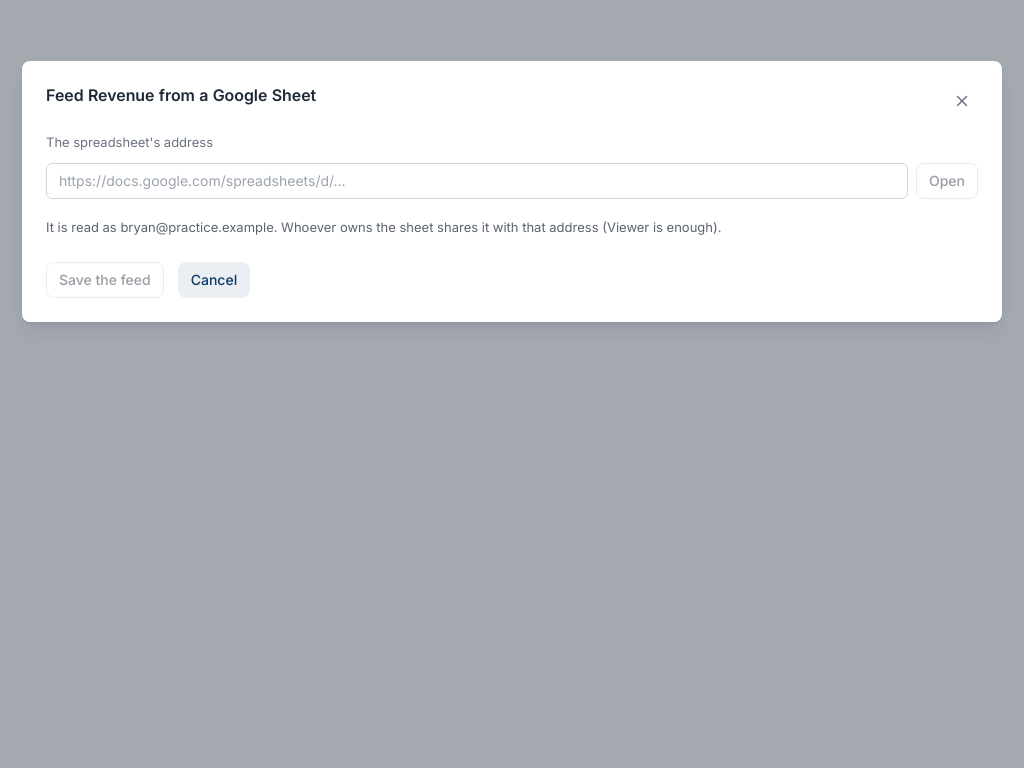
Test: the Google Sheet feed (M5 part 3) › cell mode: a click on the cell, and the preview says when it is kept
Type "1AbC" into the field labelled "The spreadsheet's address".
click(477, 181); type("1AbC")  # box x1=46 y1=163 x2=908 y2=199
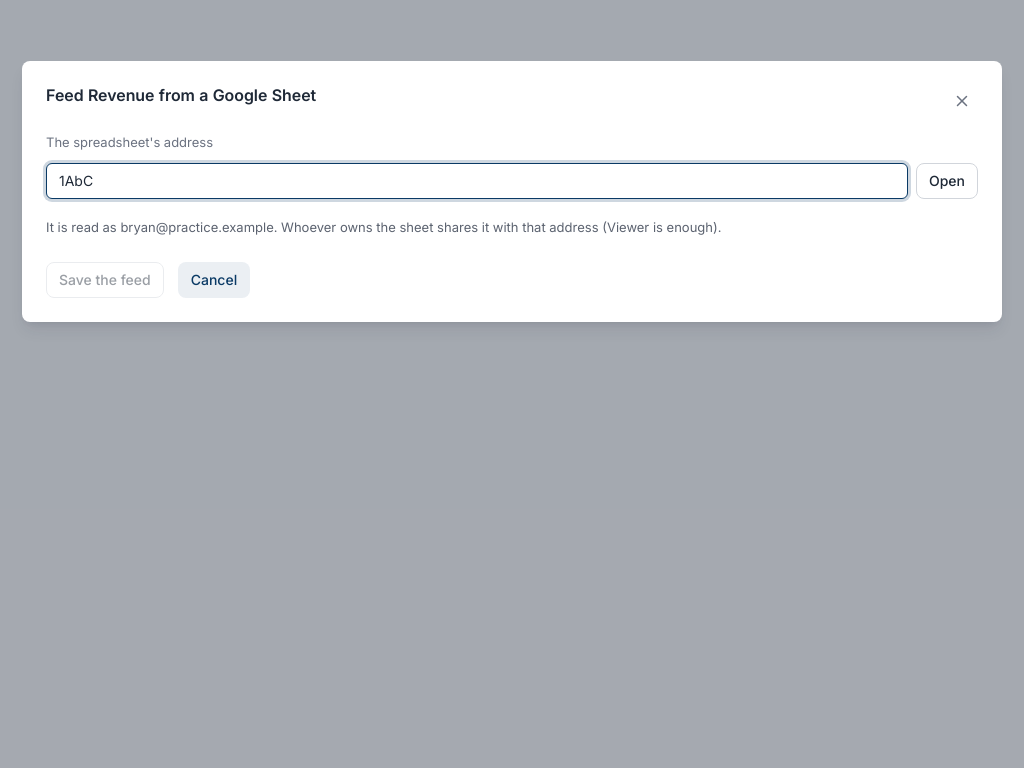
Click the button "Open".
click(947, 181)  # box x1=916 y1=163 x2=978 y2=199
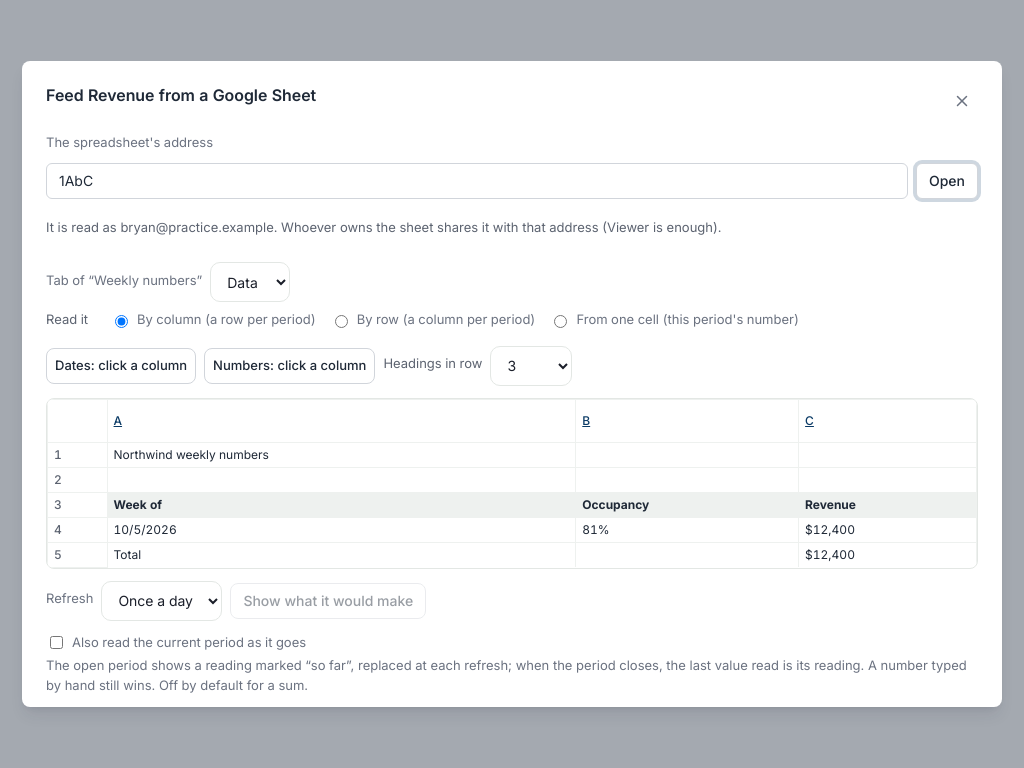
Click the radio button labelled "From one cell (this period's number)".
click(561, 322)  # box x1=554 y1=315 x2=568 y2=328
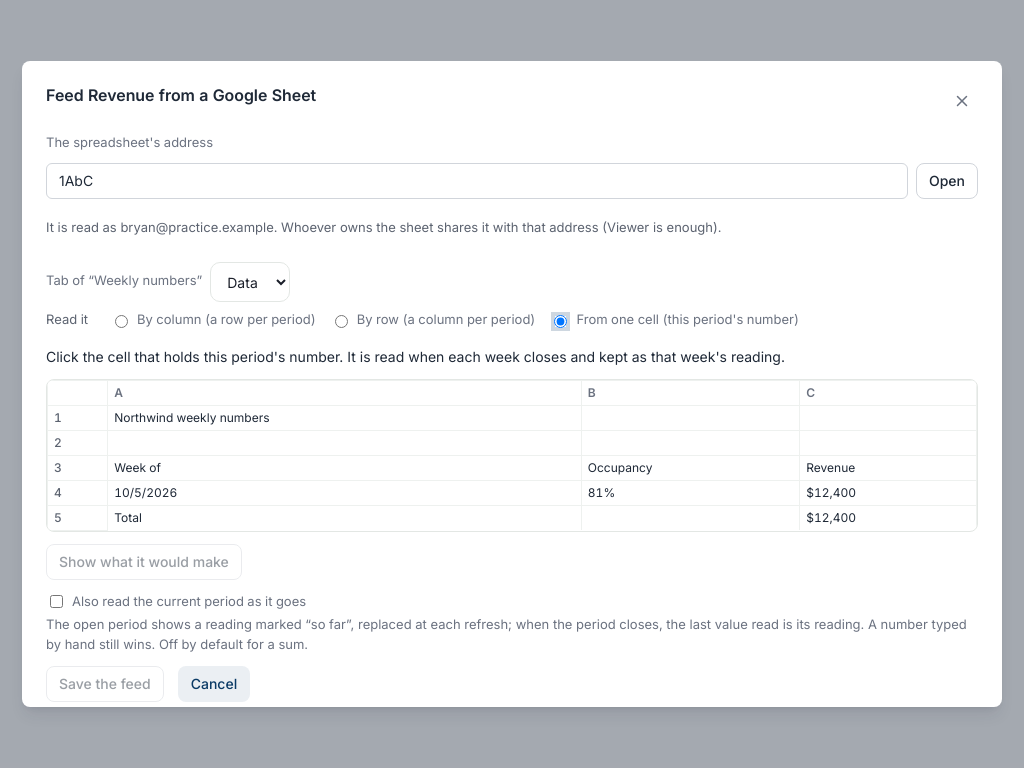
Click the button named "Cell C4".
click(831, 493)  # box x1=806 y1=484 x2=856 y2=502
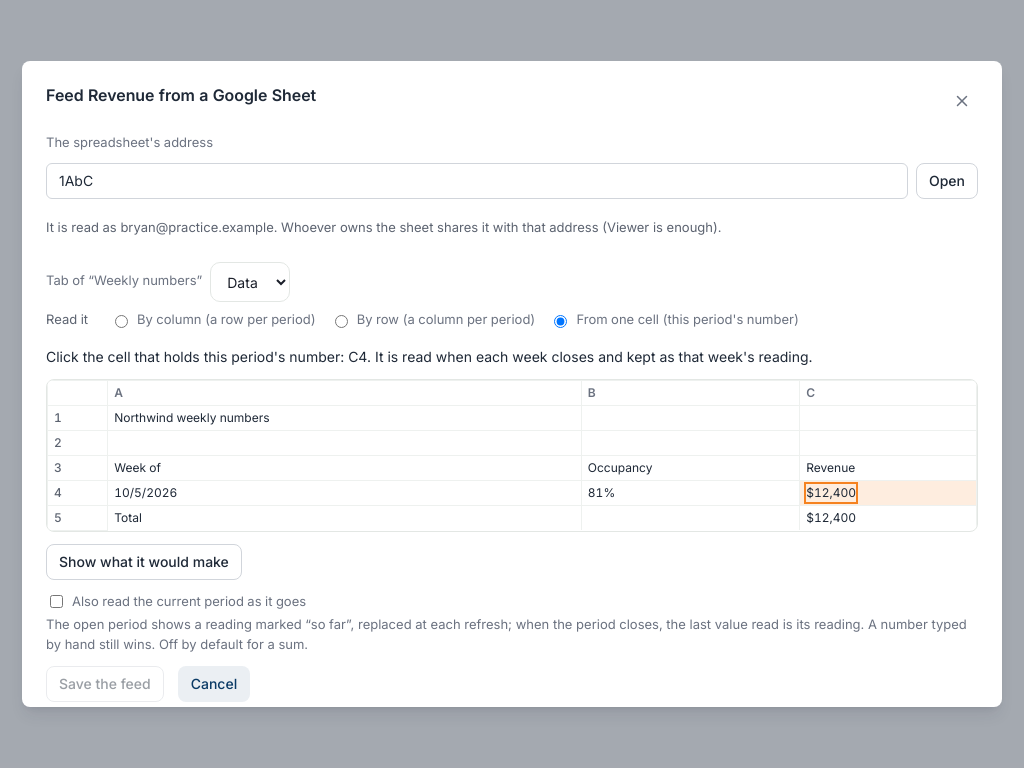
Click the button "Show what it would make".
click(144, 562)  # box x1=46 y1=544 x2=242 y2=580
(page scrolled)
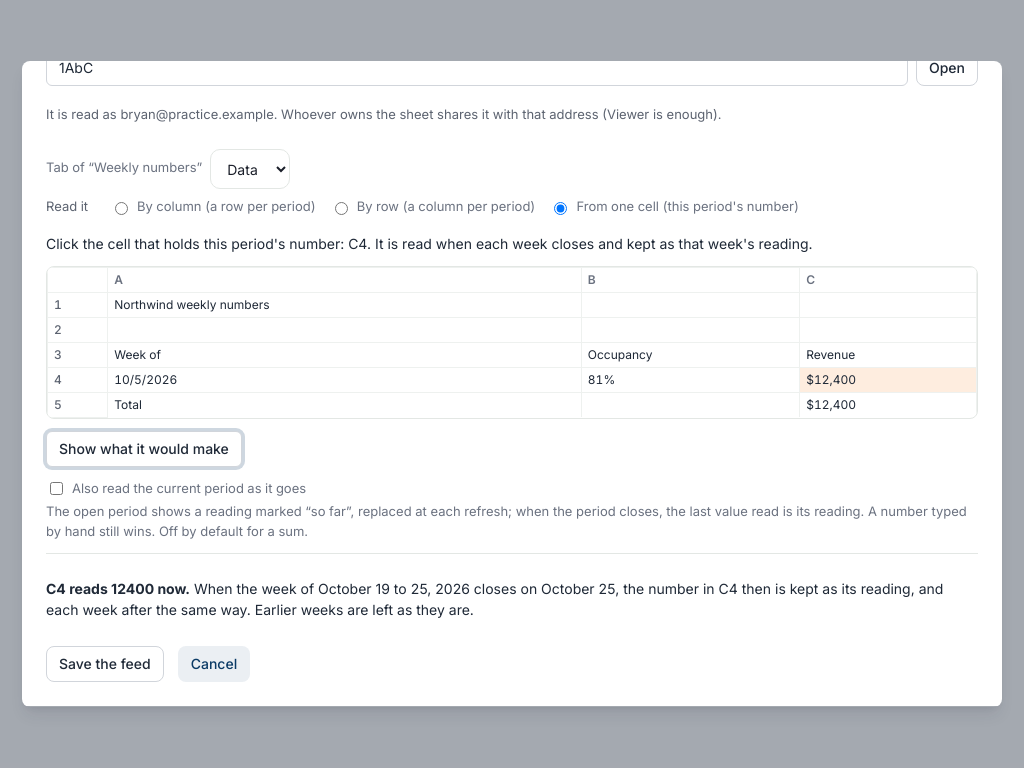
Expected: the text "C4 reads 12400 now." is shown, x1=46 y1=580 x2=190 y2=597
Expected: the button "Save the feed" is enabled, x1=46 y1=646 x2=164 y2=682
